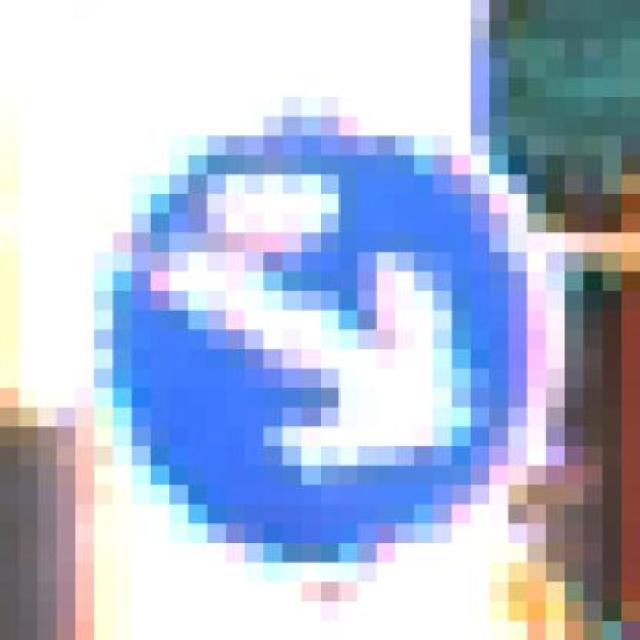Keep-Right: (94, 78, 583, 562)
